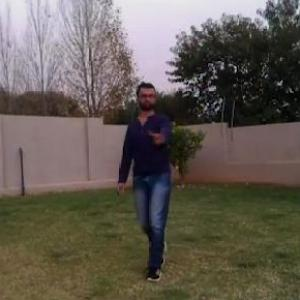takeoff-hand: (147, 122, 172, 149)
